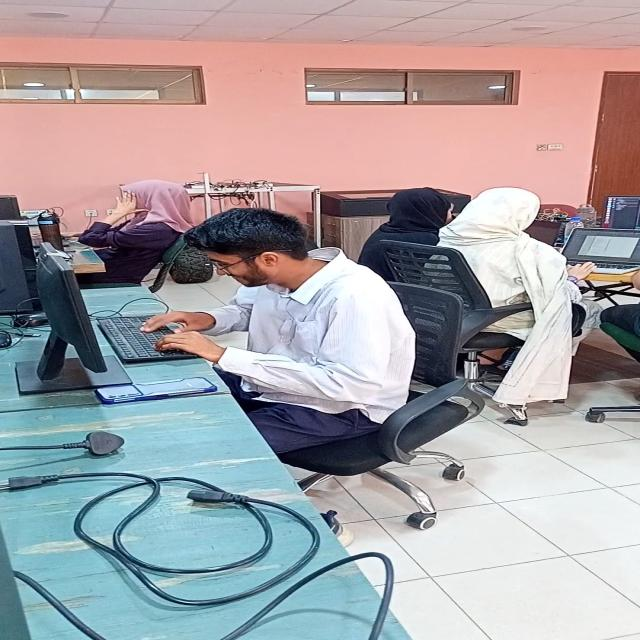dress: (184, 243, 425, 442)
